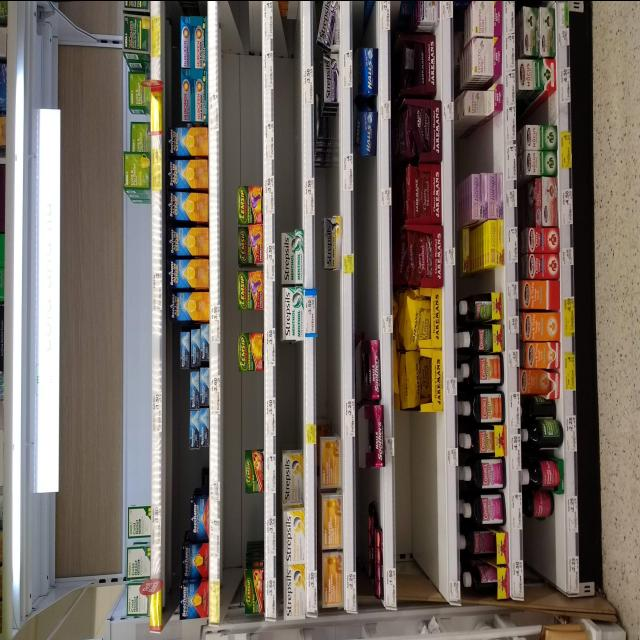empty_space: (125, 205, 150, 495), (397, 426, 436, 570), (280, 17, 300, 215), (236, 7, 261, 161), (321, 276, 339, 412), (360, 163, 376, 316), (524, 529, 562, 579), (236, 377, 263, 444), (281, 342, 299, 438), (456, 127, 495, 165), (233, 501, 259, 551), (462, 268, 498, 290), (521, 98, 553, 118), (359, 471, 378, 501)
